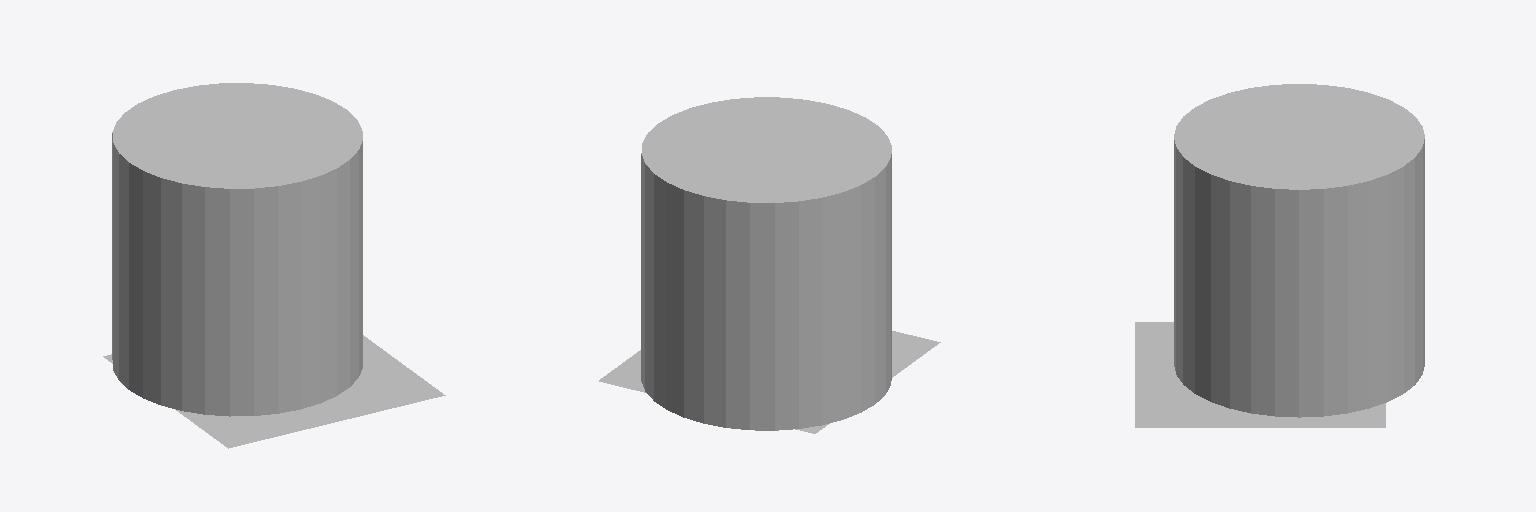
The model's file is blender-test.obj.
3 views of the same model, side by side, from view 1: azimuth 30°, elevation 25°; view 2: azimuth 150°, elevation 25°; view 3: azimuth 270°, elevation 25° (orthographic).
Parts seen in each view (by area): view 1: Cylinder; view 2: Cylinder; view 3: Cylinder.
Part boxes in pixels (x1,y1,x2,y2): Cylinder: (103, 83, 445, 448); Cylinder: (599, 97, 940, 433); Cylinder: (1135, 84, 1424, 427).
Bounding box in the file's own units: 0.7793 × 0.7306 × 0.8351.